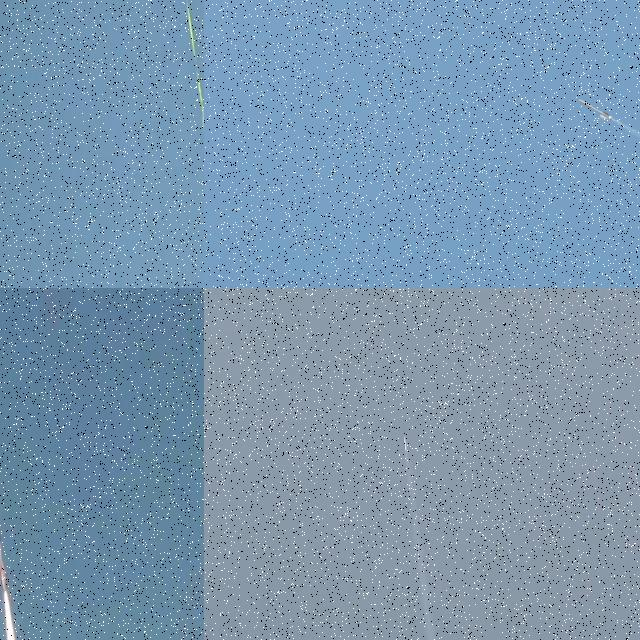Rocket: (0, 467, 6, 593), (578, 99, 613, 119), (404, 437, 406, 451)
